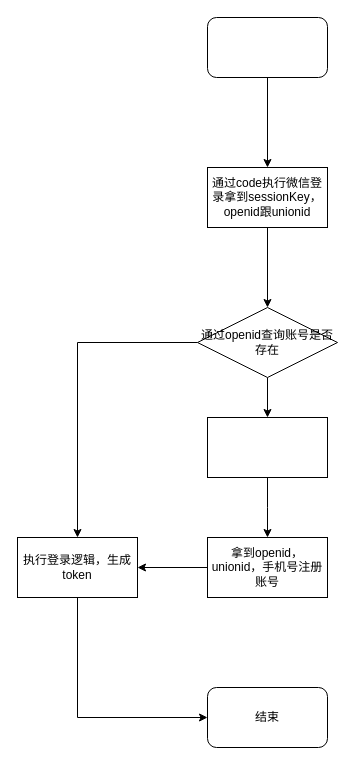
Image size: 355x765. Some labels were removed from this diagram. The centre of each missing label's shape, as x and y in pixels:
"开始" belongs at (x=267, y=47).
"通过sessionKey，iv跟 encryptedData解密手机号" belongs at (x=267, y=447).
